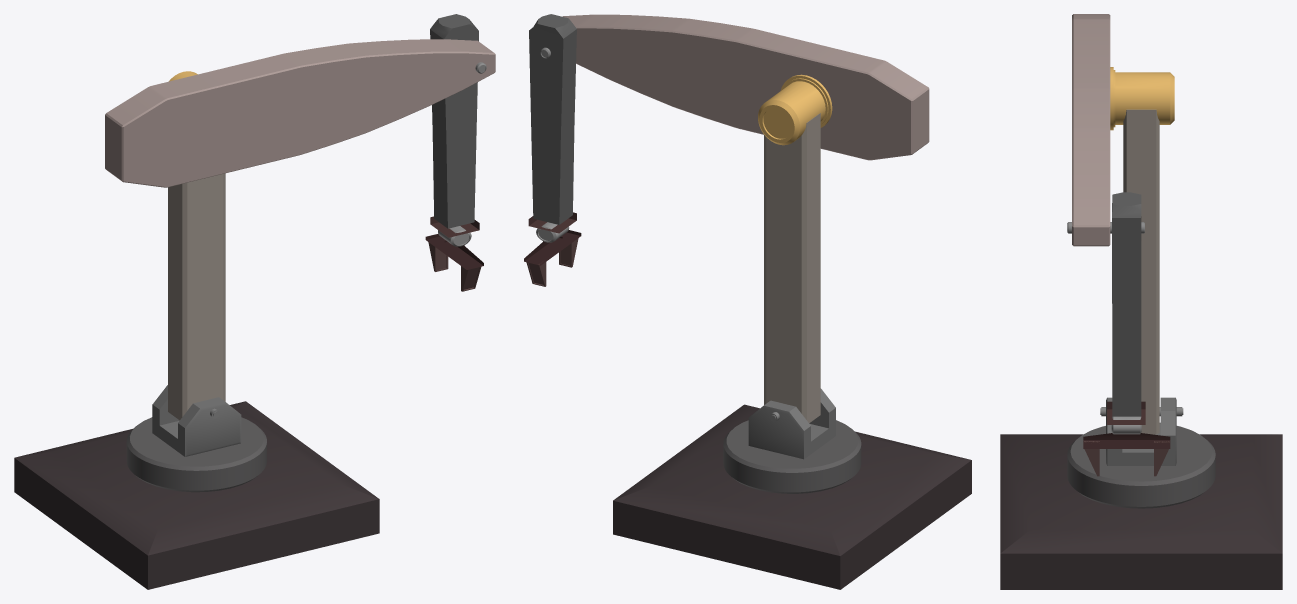
File: Ramie_robota1.glb
The picture shows the model from 3 angles, left to right: view 1: azimuth 30°, elevation 25°; view 2: azimuth 150°, elevation 25°; view 3: azimuth 270°, elevation 25°; orthographic projection. The views are drawn at different scales.
Parts seen in each view (by area): view 1: Arm2, Base, Arm1, Arm3, Base_rotator, Link1, wrist_link, grabber; view 2: Base, Arm2, Arm1, Arm3, Base_rotator, Link1, Link2, wrist_link, grabber; view 3: Base, Arm2, Arm1, Base_rotator, Arm3, Link2, Link1, wrist_link, grabber, wrist_rotator2, wrist_rotator1.
Part boxes in pixels (box(x1,y1,x2,y2)): Arm2: box(105, 39, 495, 187); Base: box(14, 401, 379, 589); Arm1: box(168, 173, 225, 420); Arm3: box(430, 14, 478, 228); Base_rotator: box(126, 417, 266, 492); Link1: box(152, 385, 241, 456); wrist_link: box(425, 234, 483, 269); grabber: box(428, 242, 481, 291); Base: box(613, 404, 971, 589); Arm2: box(562, 14, 929, 160); Arm1: box(764, 113, 820, 423); Arm3: box(529, 14, 576, 224); Base_rotator: box(723, 420, 861, 493); Link1: box(748, 388, 835, 459); Link2: box(758, 74, 832, 145); wrist_link: box(524, 230, 581, 265); grabber: box(526, 238, 578, 286); Base: box(1000, 434, 1282, 589); Arm2: box(1072, 14, 1110, 246); Arm1: box(1123, 109, 1159, 434); Base_rotator: box(1067, 422, 1215, 508); Arm3: box(1112, 192, 1141, 416); Link2: box(1110, 67, 1174, 130); Link1: box(1106, 397, 1176, 465); wrist_link: box(1083, 433, 1170, 448); grabber: box(1084, 441, 1169, 476); wrist_rotator2: box(1111, 416, 1141, 434); wrist_rotator1: box(1107, 401, 1145, 424).
Size of the model in its own units: 9.12 by 10.28 by 5.5.
